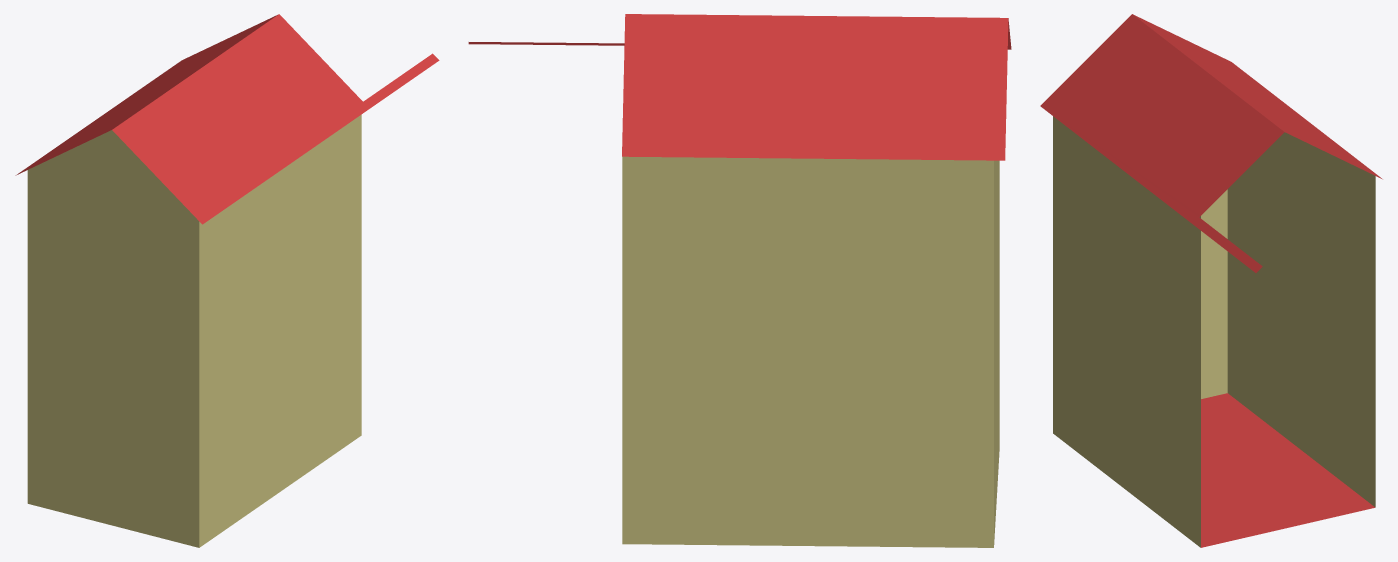
The picture shows the model from 3 angles, left to right: view 1: azimuth 30°, elevation 25°; view 2: azimuth 150°, elevation 25°; view 3: azimuth 270°, elevation 25°; orthographic projection. The views are drawn at different scales.
Bounding box in the file's own units: 13.16 × 9.05 × 11.51.
